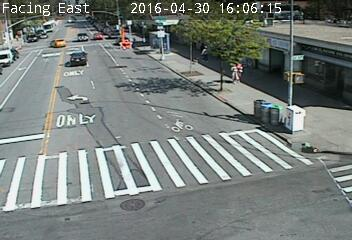neg: (47, 78, 65, 102), (175, 152, 192, 176), (246, 98, 263, 120), (203, 112, 219, 134), (295, 51, 311, 73), (140, 73, 155, 93), (162, 104, 177, 124), (115, 166, 130, 186), (105, 95, 117, 112), (308, 97, 320, 112), (326, 33, 333, 43)
pos: (229, 61, 244, 80), (200, 44, 212, 60)
